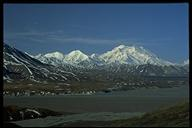mountain: (7, 37, 188, 99)
sky: (18, 10, 182, 40)
water: (16, 83, 186, 115)
